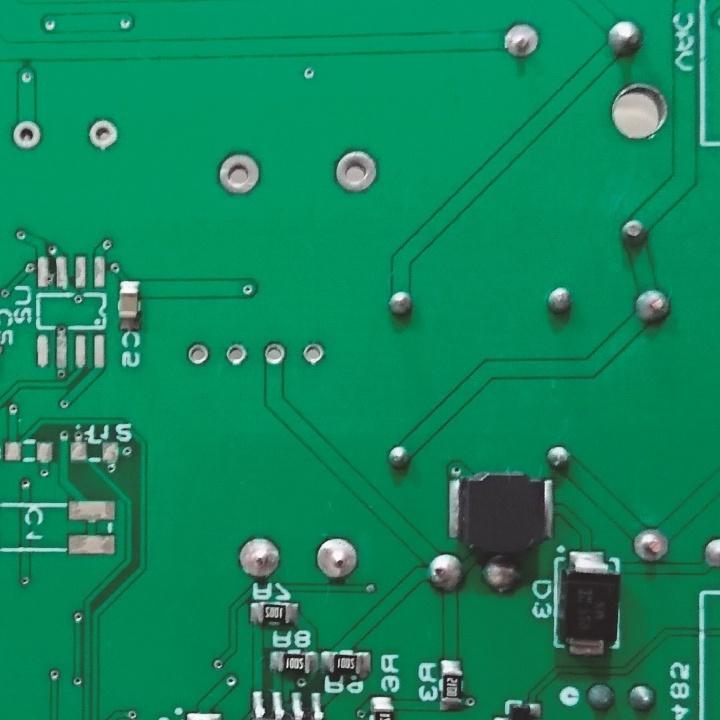F: (326, 149, 386, 195), (210, 150, 263, 195), (314, 535, 360, 584), (238, 533, 283, 580), (501, 20, 542, 64), (631, 524, 669, 563), (84, 116, 120, 150), (10, 120, 46, 153), (222, 340, 250, 369), (184, 340, 213, 366), (299, 341, 327, 367), (261, 339, 287, 365)
